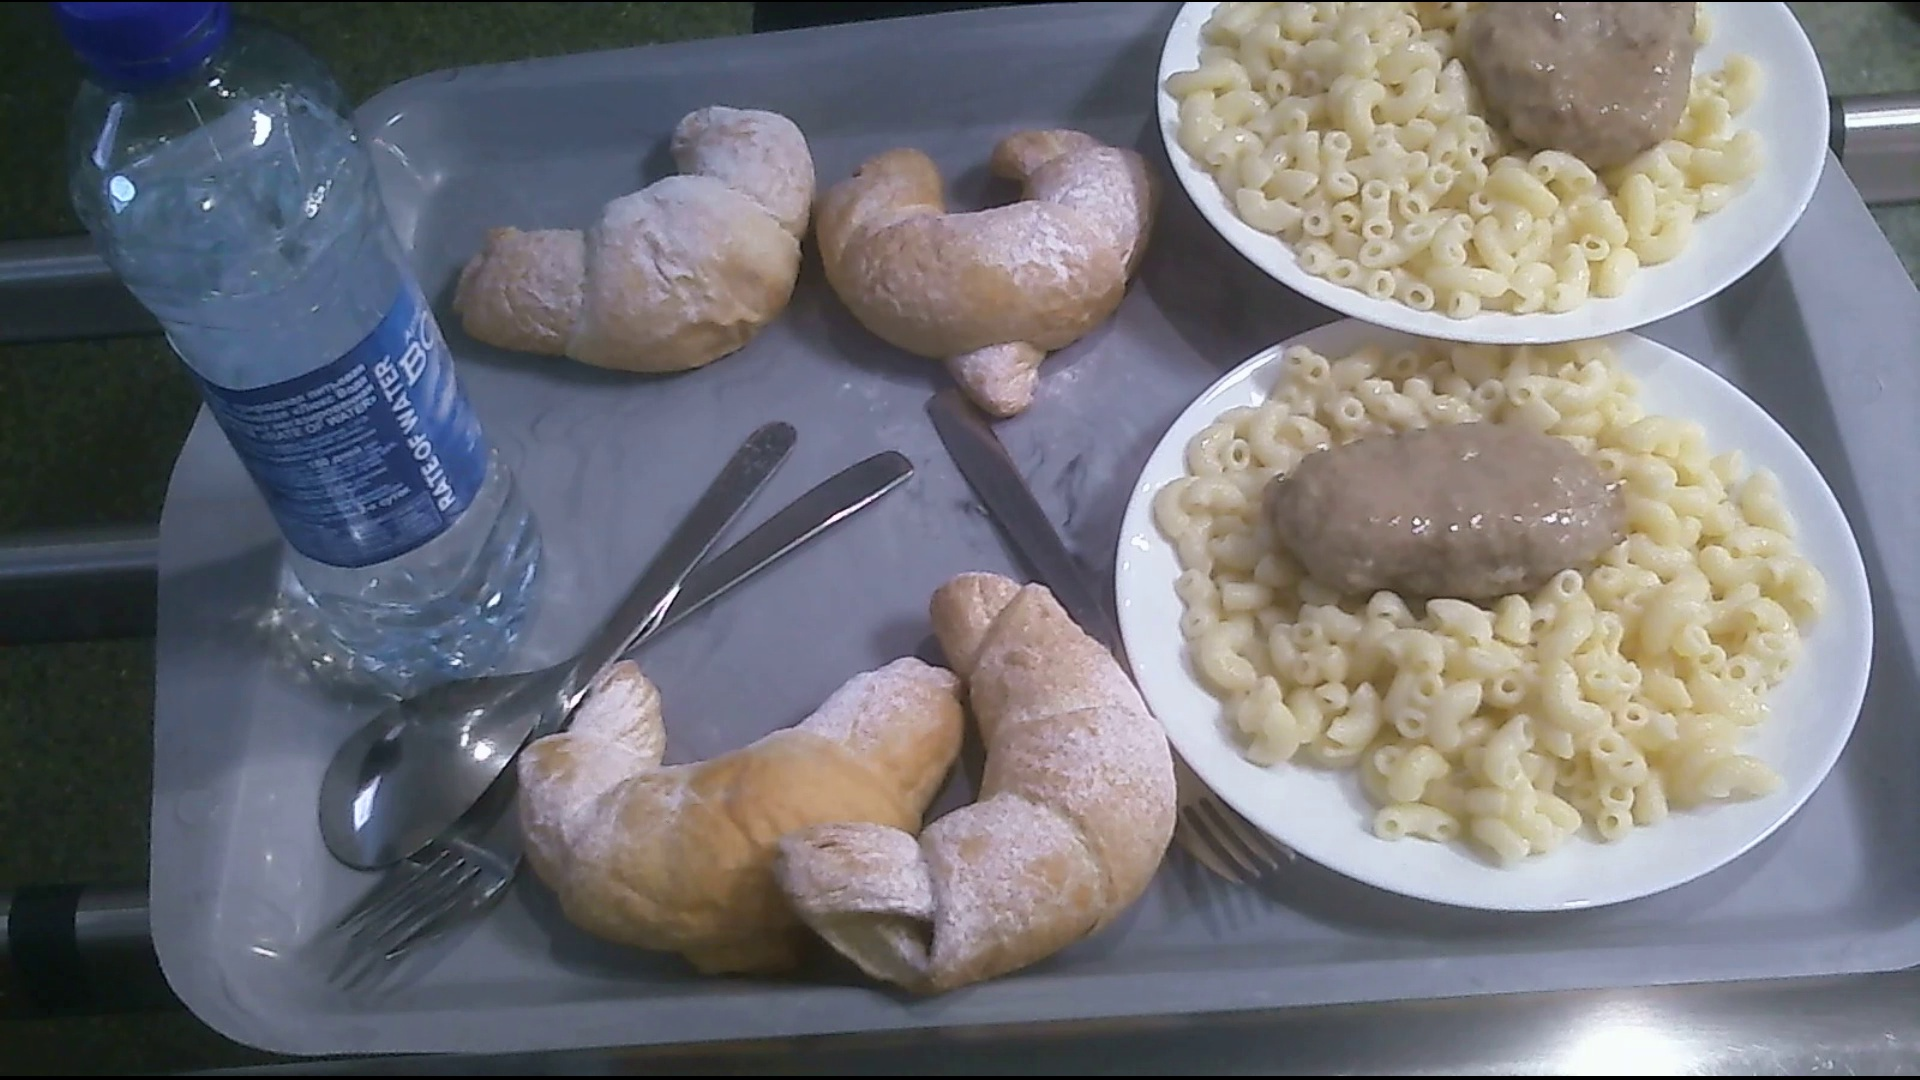cutlery: (313, 422, 903, 978), (924, 392, 1294, 885)
drink: (65, 11, 541, 684)
other: (554, 578, 1168, 992), (824, 124, 1162, 419), (465, 102, 812, 371)
plate: (1153, 324, 1874, 930), (1168, 1, 1837, 334)
